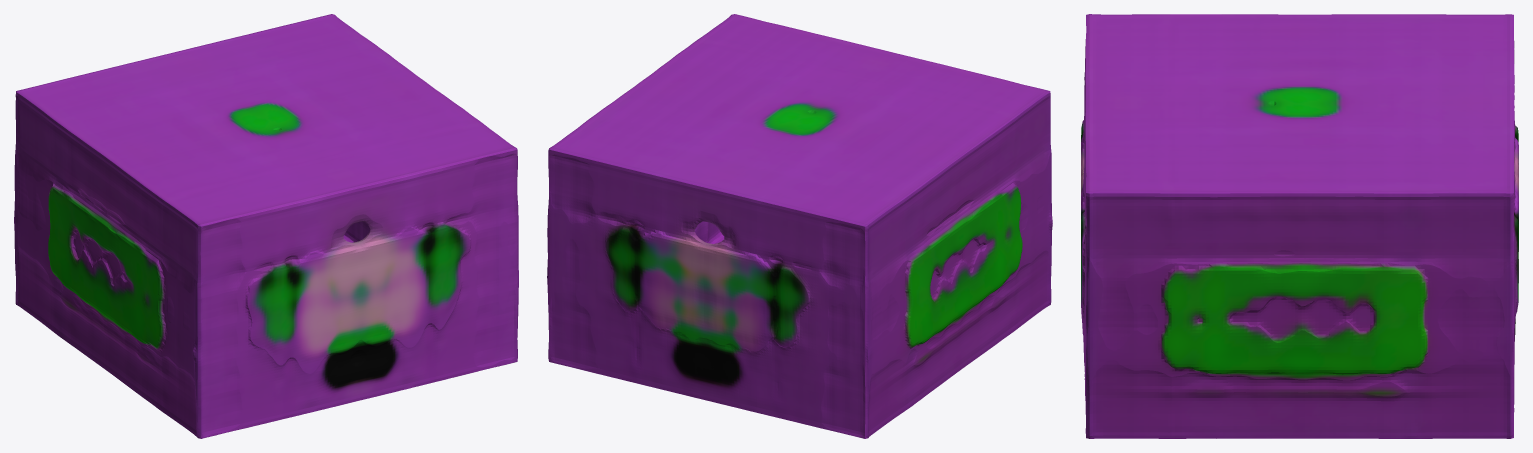
The picture shows the model from 3 angles, left to right: view 1: azimuth 30°, elevation 25°; view 2: azimuth 150°, elevation 25°; view 3: azimuth 270°, elevation 25°; orthographic projection. The views are drawn at different scales.
Visible parts, largest first — view 1: geometry_0; view 2: geometry_0; view 3: geometry_0.
Part boxes in pixels (x1,y1,x2,y2): geometry_0: (14,14,518,438); geometry_0: (547,14,1052,438); geometry_0: (1081,14,1518,438).
Bounding box in the file's own units: 1.6 × 1 × 1.6.
